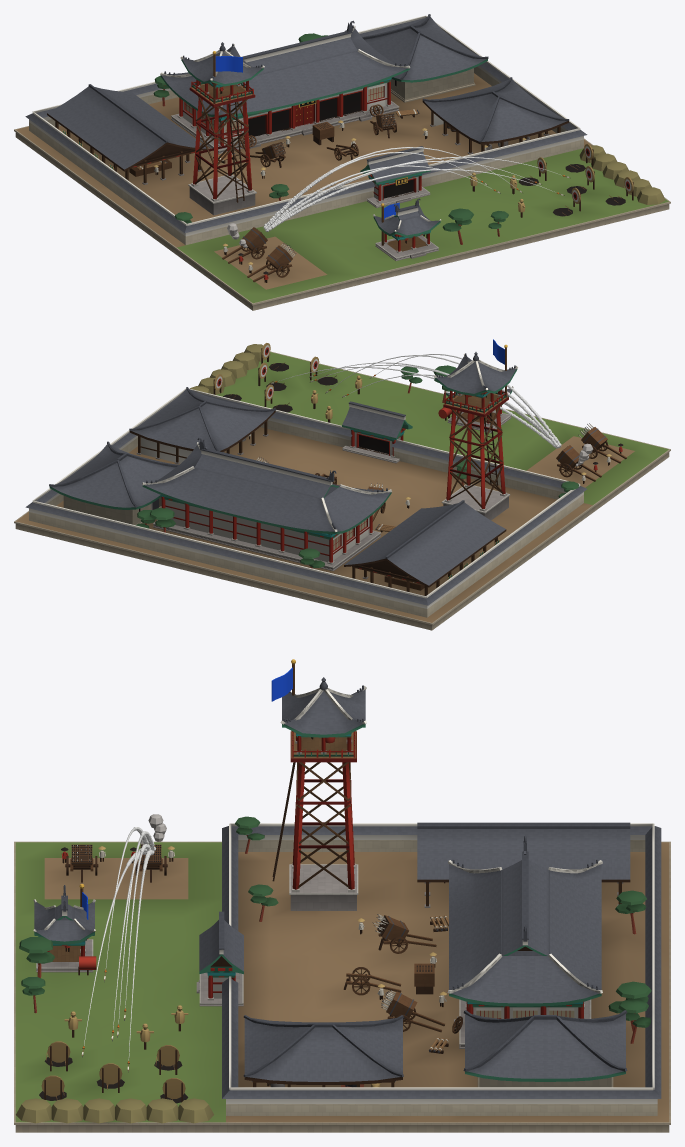
File: lm_hwachaatolye.glb
3 renders of one model, top to bottom at view 1: azimuth 30°, elevation 25°; view 2: azimuth 150°, elevation 25°; view 3: azimuth 270°, elevation 25°, orthographic. The views are drawn at different scales.
Visible parts, largest first — view 1: lm_hwachaatolye; view 2: lm_hwachaatolye; view 3: lm_hwachaatolye.
Part boxes in pixels (x1,y1,x2,y2): lm_hwachaatolye: [14, 14, 670, 310]; lm_hwachaatolye: [14, 339, 670, 630]; lm_hwachaatolye: [14, 659, 670, 1132].
Bounding box in the file's own units: 2.32 × 0.902 × 2.28.
1 material, 1 textured.
